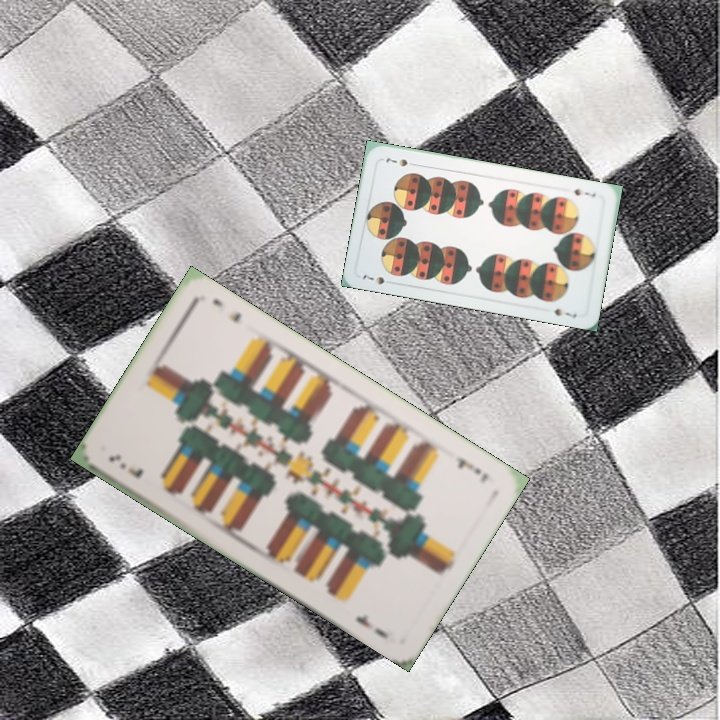E7: (451, 452, 492, 486), (104, 450, 146, 481)
S7: (358, 271, 397, 287), (567, 185, 598, 199)
